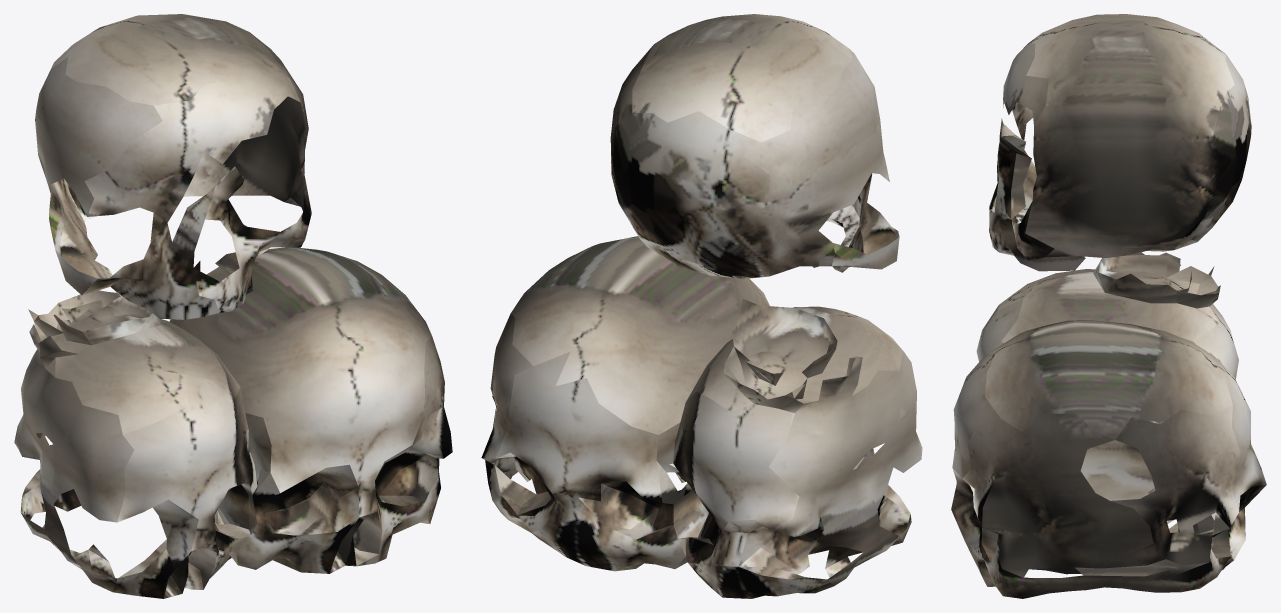
Rendered from skull.glb.
3 views of the same model, side by side, from view 1: azimuth 30°, elevation 25°; view 2: azimuth 150°, elevation 25°; view 3: azimuth 270°, elevation 25° (orthographic). The views are drawn at different scales.
Parts seen in each view (by area): view 1: geometry_0; view 2: geometry_0; view 3: geometry_0.
Part boxes in pixels (x1=…): geometry_0: x1=14, y1=14, x2=452, y2=598; geometry_0: x1=481, y1=14, x2=922, y2=598; geometry_0: x1=951, y1=14, x2=1266, y2=598.
Size of the model in its own units: 0.1619 by 0.22 by 0.1277.
1 material, 1 textured.
